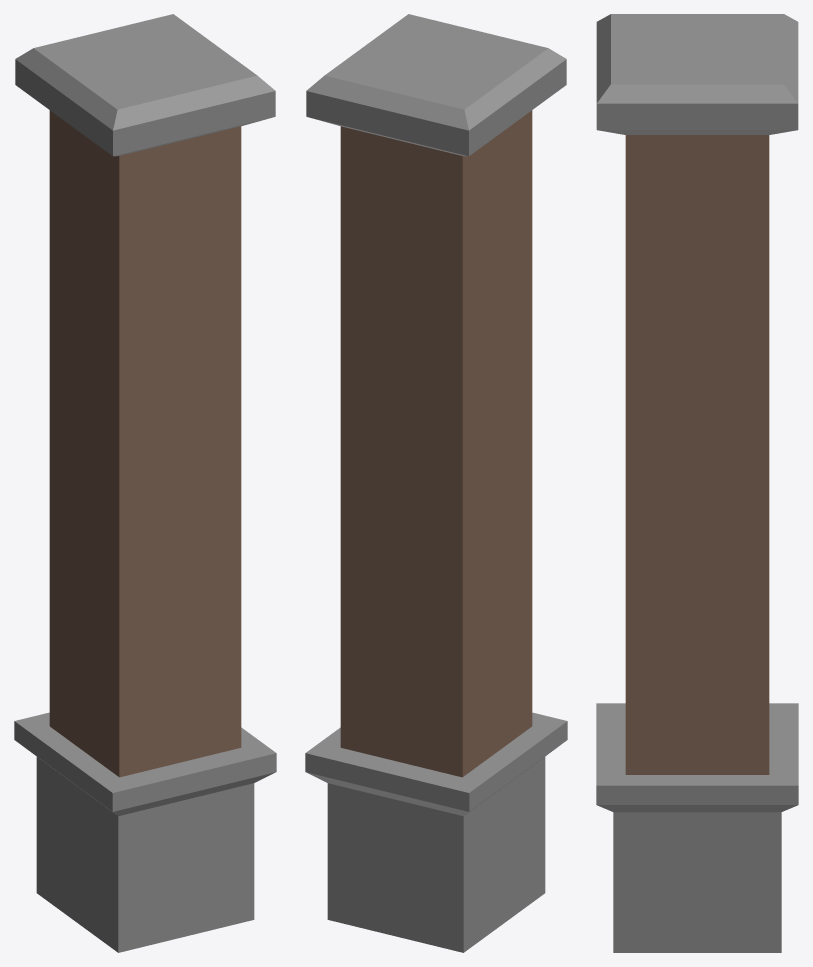
Rendered from Brick_Fence_Pillar.fbx.
3 views of the same model, side by side, from view 1: azimuth 30°, elevation 25°; view 2: azimuth 150°, elevation 25°; view 3: azimuth 270°, elevation 25° (orthographic). The views are drawn at different scales.
Visible parts, largest first — view 1: Fence_Brick_Pillar; view 2: Fence_Brick_Pillar; view 3: Fence_Brick_Pillar.
Part boxes in pixels (left/top/right/bottom): Fence_Brick_Pillar: left=14, top=14, right=276, bottom=952; Fence_Brick_Pillar: left=305, top=14, right=567, bottom=952; Fence_Brick_Pillar: left=596, top=14, right=798, bottom=952.
Bounding box in the file's own units: 65.1 × 321 × 67.76.
